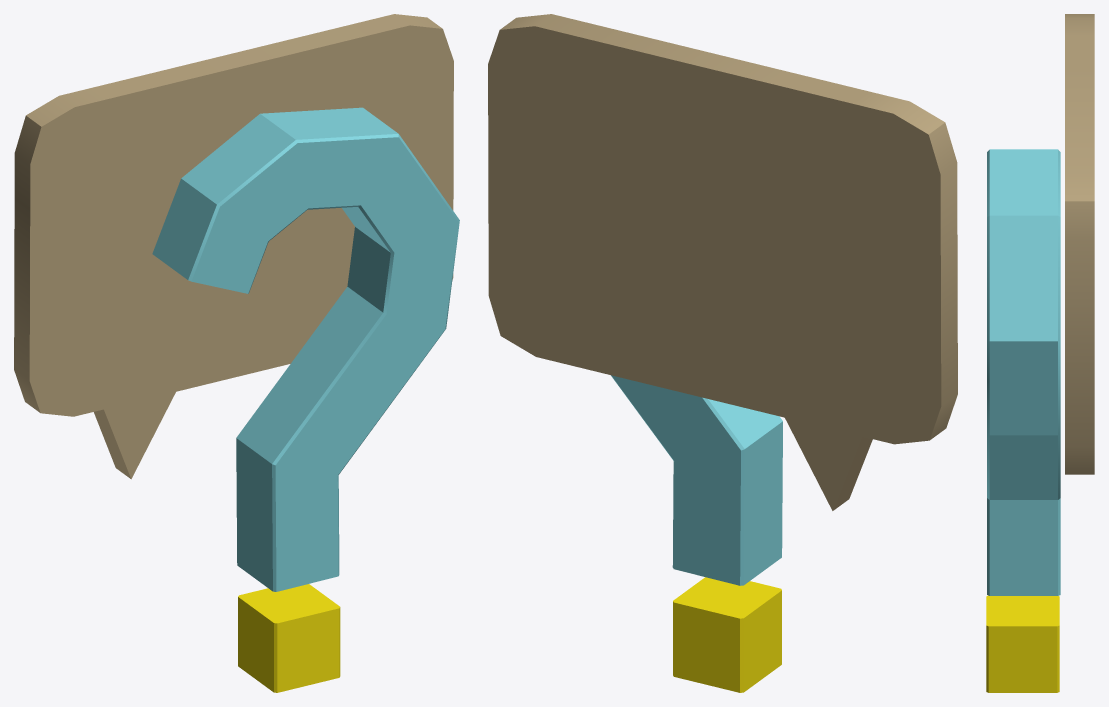
File: Ask.fbx
The picture shows the model from 3 angles, left to right: view 1: azimuth 30°, elevation 25°; view 2: azimuth 150°, elevation 25°; view 3: azimuth 270°, elevation 25°; orthographic projection. The views are drawn at different scales.
Parts seen in each view (by area): view 1: Box002, Line001, Box001; view 2: Box002, Line001, Box001; view 3: Line001, Box002, Box001.
Part boxes in pixels (x1=…): Box002: x1=14, y1=14, x2=453, y2=479; Line001: x1=152, y1=107, x2=459, y2=591; Box001: x1=238, y1=584, x2=340, y2=692; Box002: x1=488, y1=14, x2=957, y2=510; Line001: x1=611, y1=375, x2=782, y2=585; Box001: x1=673, y1=577, x2=781, y2=692; Line001: x1=987, y1=149, x2=1060, y2=595; Box002: x1=1065, y1=14, x2=1094, y2=474; Box001: x1=986, y1=595, x2=1059, y2=692.
Size of the model in its own units: 95.74 by 128 by 22.17.
